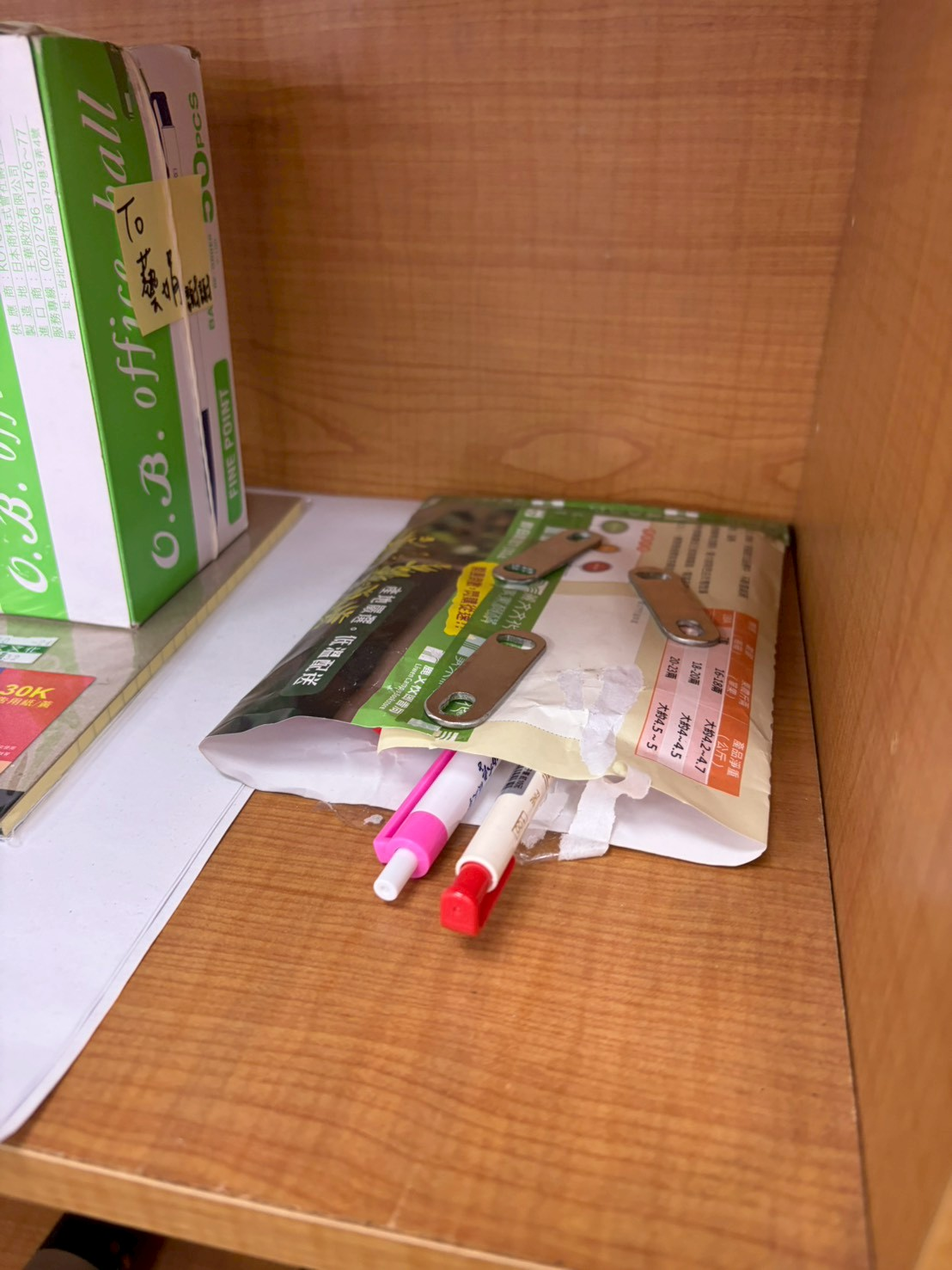Fe: (411, 616, 554, 735), (489, 507, 600, 595), (639, 542, 722, 659)
